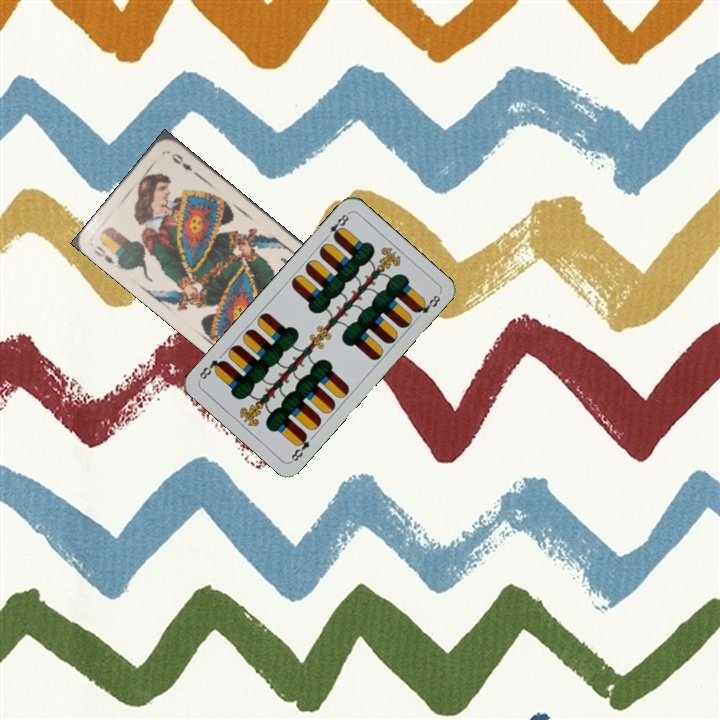E8: (321, 209, 352, 242), (287, 429, 312, 464)
EO: (90, 241, 117, 267)
